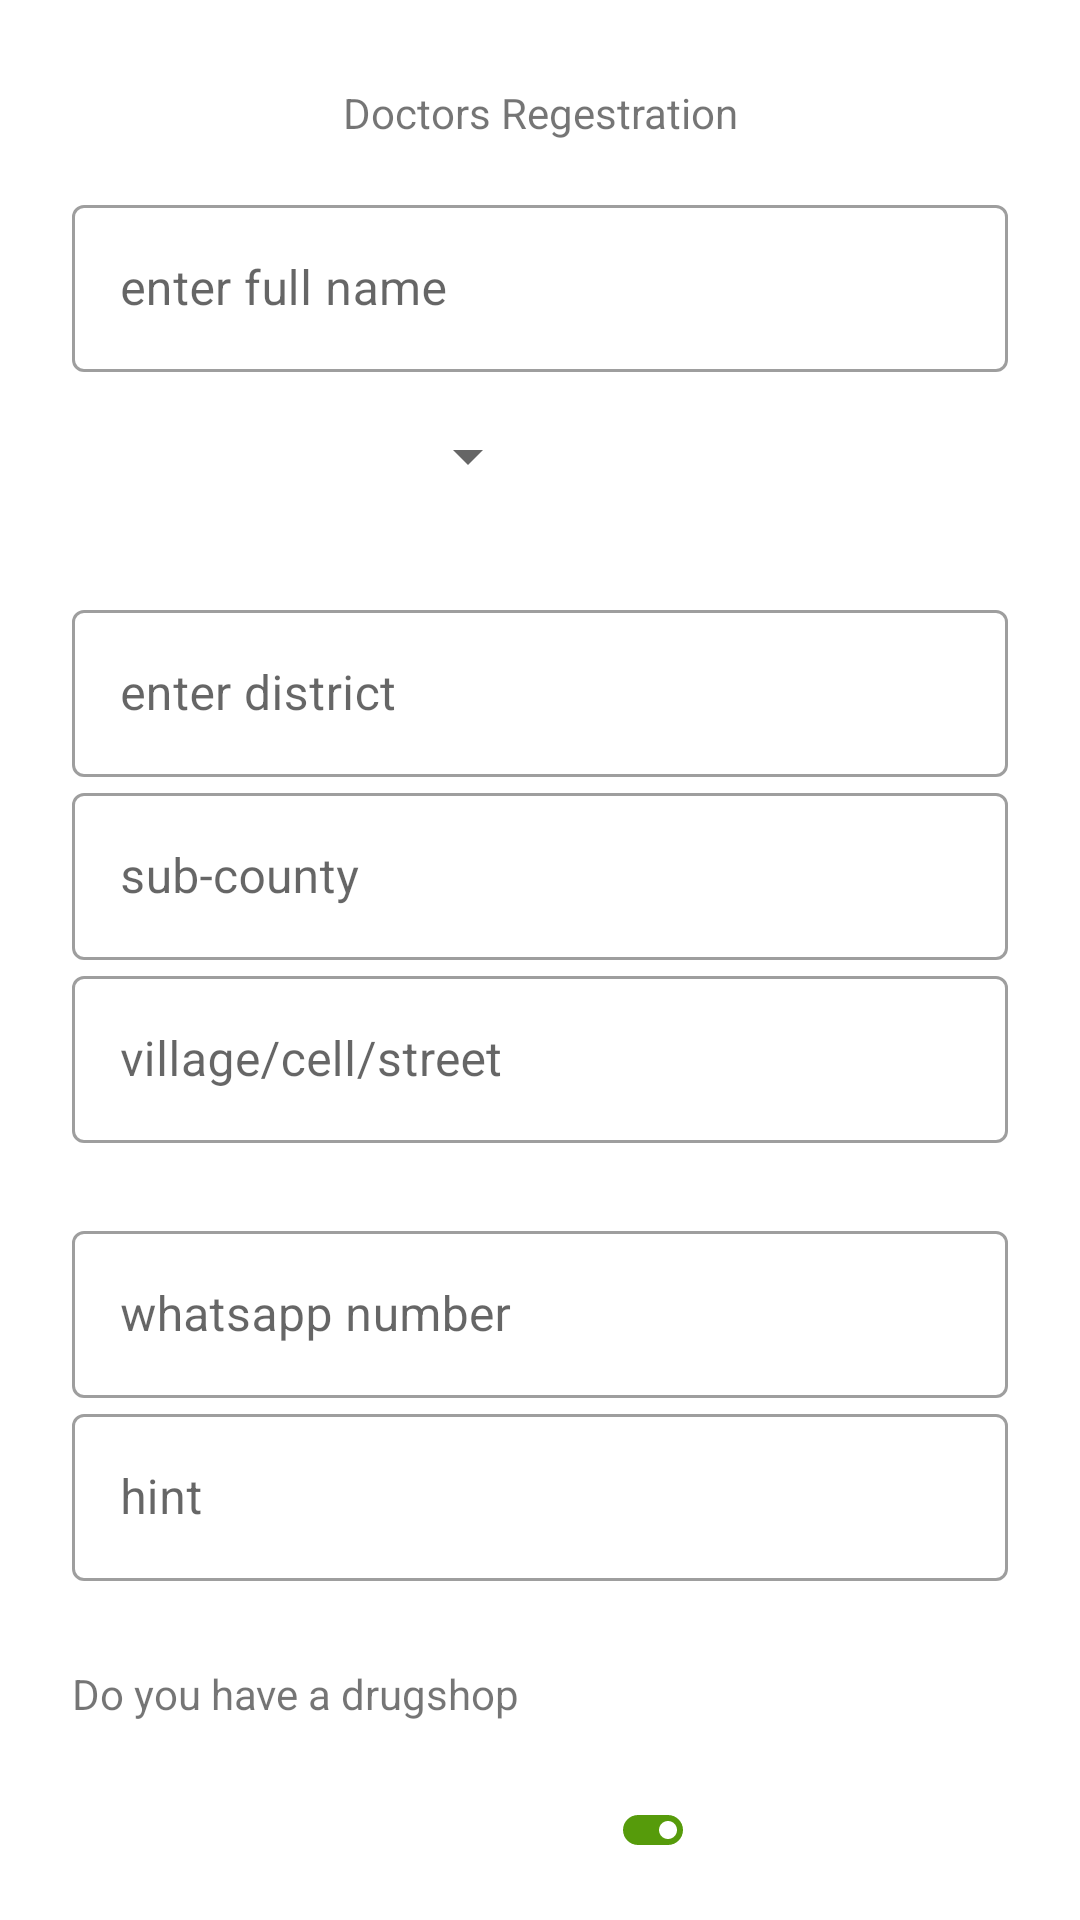

Icons on this 1080 × 1920 Android screen, each with its box as box=[x1, y1, x2, y2]:
toggle on: box=[623, 1815, 683, 1845]
